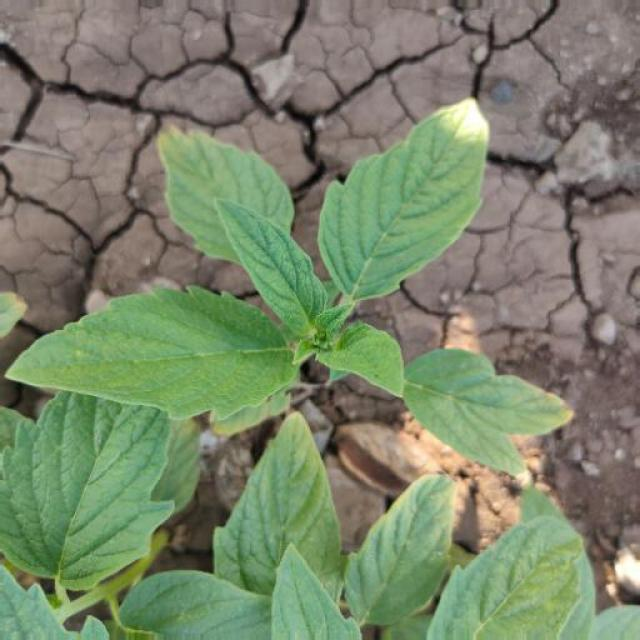crop: (9, 72, 635, 492)
